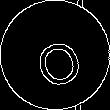O_NW: (25, 23, 85, 87)
